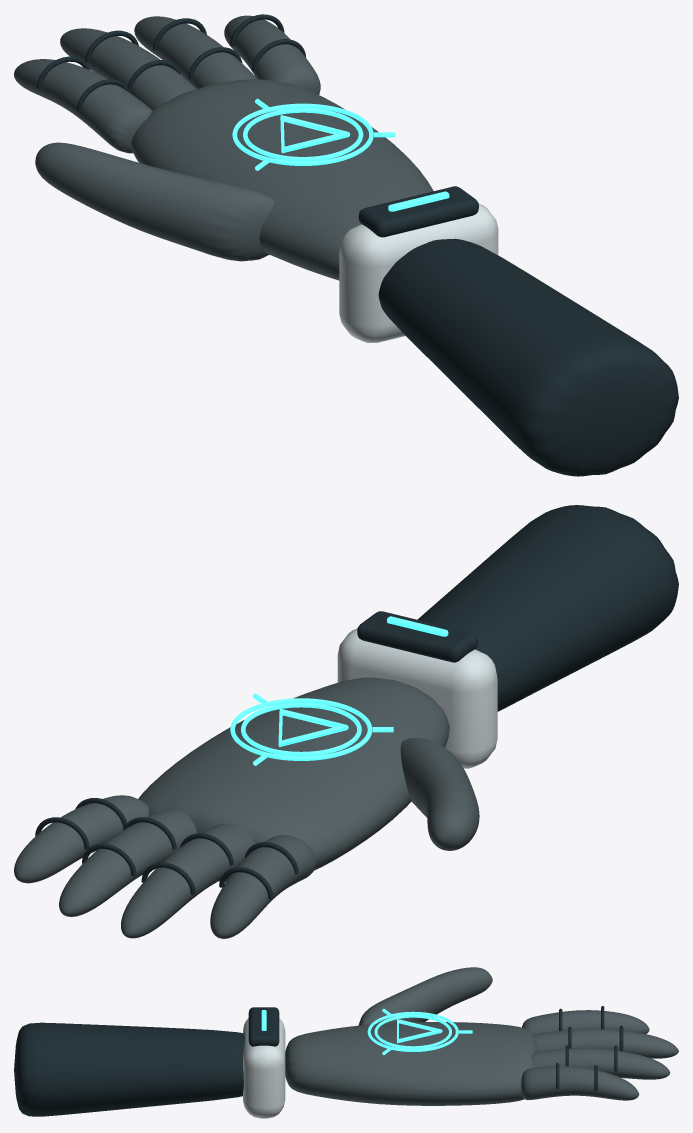
File: PalmAnchor.fbx
The picture shows the model from 3 angles, top to bottom: view 1: azimuth 30°, elevation 25°; view 2: azimuth 150°, elevation 25°; view 3: azimuth 270°, elevation 25°; orthographic projection. The views are drawn at different scales.
Visible parts, largest first — view 1: Tapered forearm sleeve, Continuous rounded palm, Opposable thumb, Wrist ceramic anchor cuff, Gloved finger 0, Gloved finger 1, Gloved finger 2, Gloved finger 3, Cuff dark inset, Time-anchor concentric rune.001, Time-anchor concentric rune, Time-anchor triangle; view 2: Continuous rounded palm, Tapered forearm sleeve, Wrist ceramic anchor cuff, Gloved finger 1, Gloved finger 2, Opposable thumb, Gloved finger 0, Gloved finger 3, Cuff dark inset, Time-anchor concentric rune.001, Time-anchor concentric rune, Time-anchor triangle; view 3: Tapered forearm sleeve, Continuous rounded palm, Opposable thumb, Wrist ceramic anchor cuff, Gloved finger 3, Gloved finger 2, Gloved finger 1, Gloved finger 0, Cuff dark inset, Time-anchor concentric rune.001, Time-anchor concentric rune, Time-anchor triangle.
Boxes of the visible parts, left/top/right/bottom form: Tapered forearm sleeve: left=378, top=238, right=678, bottom=476; Continuous rounded palm: left=131, top=79, right=433, bottom=280; Opposable thumb: left=35, top=142, right=274, bottom=261; Wrist ceramic anchor cuff: left=339, top=203, right=498, bottom=342; Gloved finger 0: left=14, top=59, right=152, bottom=153; Gloved finger 1: left=60, top=28, right=196, bottom=110; Gloved finger 2: left=134, top=16, right=257, bottom=88; Gloved finger 3: left=224, top=15, right=320, bottom=94; Cuff dark inset: left=358, top=186, right=478, bottom=237; Time-anchor concentric rune.001: left=232, top=103, right=373, bottom=165; Time-anchor concentric rune: left=243, top=108, right=363, bottom=161; Time-anchor triangle: left=280, top=115, right=350, bottom=153; Continuous rounded palm: left=138, top=677, right=449, bottom=882; Tapered forearm sleeve: left=417, top=505, right=678, bottom=711; Wrist ceramic anchor cuff: left=337, top=628, right=497, bottom=768; Gloved finger 1: left=121, top=824, right=254, bottom=938; Gloved finger 2: left=59, top=809, right=196, bottom=916; Opposable thumb: left=400, top=738, right=479, bottom=850; Gloved finger 0: left=210, top=835, right=315, bottom=938; Gloved finger 3: left=14, top=795, right=148, bottom=883; Cuff dark inset: left=357, top=611, right=477, bottom=662; Time-anchor concentric rune.001: left=230, top=698, right=372, bottom=760; Time-anchor concentric rune: left=241, top=702, right=361, bottom=756; Time-anchor triangle: left=278, top=708, right=348, bottom=746; Tapered forearm sleeve: left=14, top=1022, right=245, bottom=1116; Continuous rounded palm: left=285, top=1022, right=538, bottom=1105; Opposable thumb: left=358, top=967, right=492, bottom=1025; Wrist ceramic anchor cuff: left=243, top=1018, right=285, bottom=1118; Gloved finger 3: left=521, top=1066, right=639, bottom=1100; Gloved finger 2: left=531, top=1048, right=670, bottom=1079; Gloved finger 1: left=532, top=1029, right=678, bottom=1058; Gloved finger 0: left=522, top=1010, right=649, bottom=1034; Cuff dark inset: left=248, top=1007, right=279, bottom=1046; Time-anchor concentric rune.001: left=367, top=1011, right=458, bottom=1051; Time-anchor concentric rune: left=374, top=1014, right=451, bottom=1048; Time-anchor triangle: left=397, top=1019, right=442, bottom=1043.
Bounding box in the file's own units: 0.1483 × 0.0594 × 0.3922.
